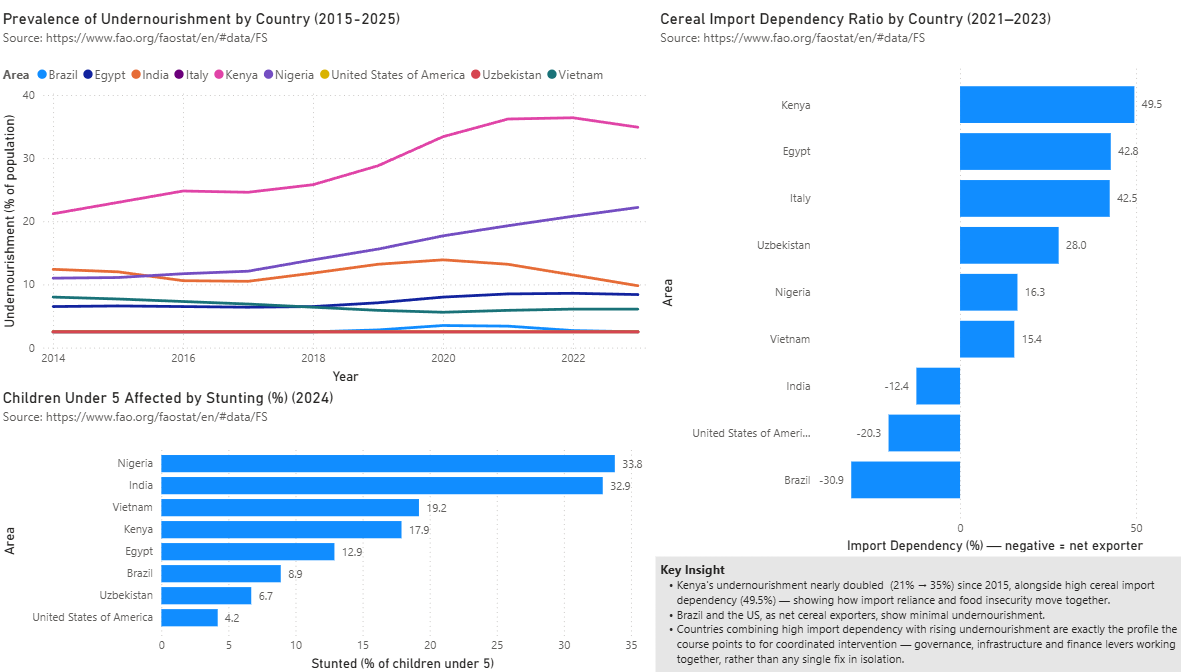

This screenshot's page, from the dashboard's own definition file:
{"tool":"powerbi","page":{"name":"Food Security & Nutrition Outcomes","canvas":[1280,720],"ordinal":2},"visuals":[{"type":"lineChart","title":"Prevalence of Undernourishment by Country (2015-2025)","fields":{"Category":["undernourishment_clean.Year_Start"],"Series":["undernourishment_clean.Area"],"Y":["Sum(undernourishment_clean.Undernourishment_Prevalence_Pct)"]},"box":[0,0,710,410],"z":0},{"type":"clusteredBarChart","title":"Children Under 5 Affected by Stunting (%) (2024)","fields":{"Category":["stunted_children_clean.Area"],"Y":["Sum(stunted_children_clean.Stunted_Children_Under5_Pct)"]},"box":[0,409.5,710,310.3],"z":1000},{"type":"clusteredBarChart","title":"Cereal Import Dependency Ratio by Country (2021–2023)","fields":{"Category":["cereal_import_dependency_clean.Area"],"Y":["Sum(cereal_import_dependency_clean.Cereal_Import_Dependency_Ratio_Pct)"]},"box":[710.5,0,569.9,592.5],"z":2000},{"type":"textbox","box":[710.5,592.5,569.9,126.8],"z":2001}]}

Visuals, with their boxes in screenshot pixels (x1, y1, x2, y2), scaled from the page's 1280x720 canvas onto the 1181x672 screenshot:
"Prevalence of Undernourishment by Country (2015-2025)" lineChart: rect(0, 0, 655, 383)
"Children Under 5 Affected by Stunting (%) (2024)" clusteredBarChart: rect(0, 382, 655, 671)
"Cereal Import Dependency Ratio by Country (2021–2023)" clusteredBarChart: rect(656, 0, 1180, 553)
textbox: rect(656, 553, 1180, 671)
